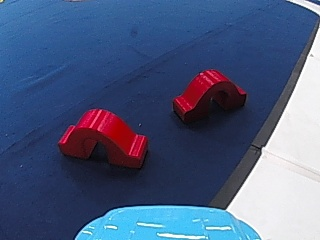bridge: (54, 104, 154, 165), (167, 65, 249, 124)
